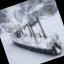fishing boat: (3, 7, 64, 64)
